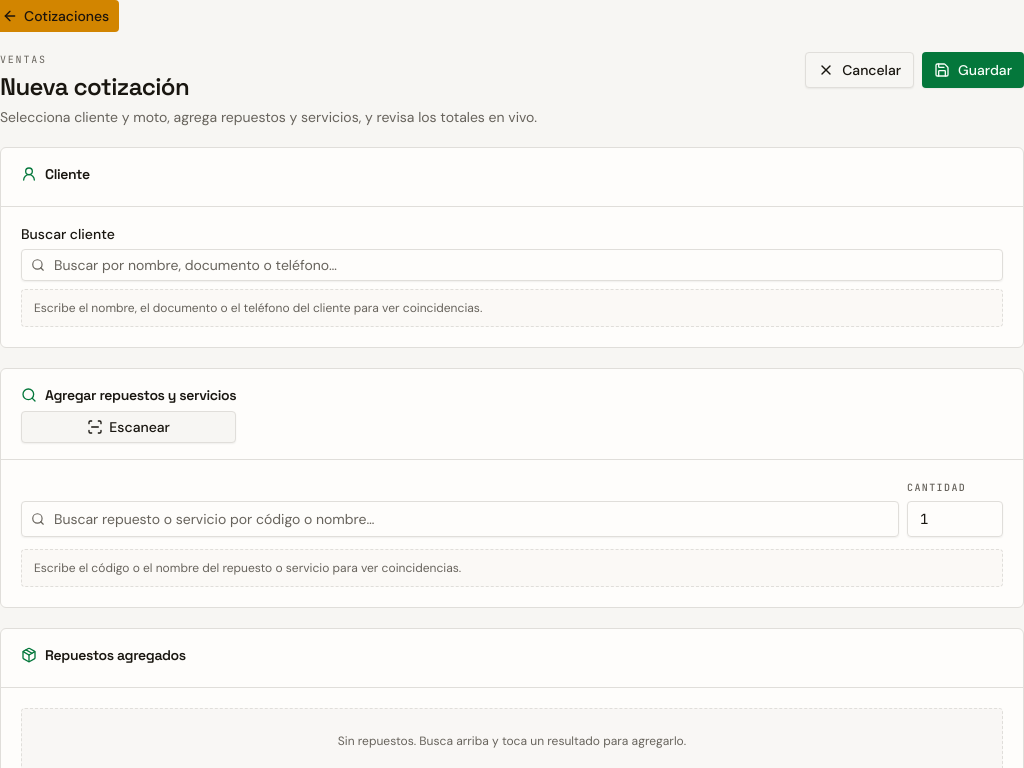
Test: QuoteDetailPage new-quote form (characterization) › blocks the save with a clear message when no customer is selected
Expected: the heading "Nueva cotización" is shown, [0,71,189,102]
Click the button with test id "quote_detail.save_button": point(973, 70) [922,52,1023,88]
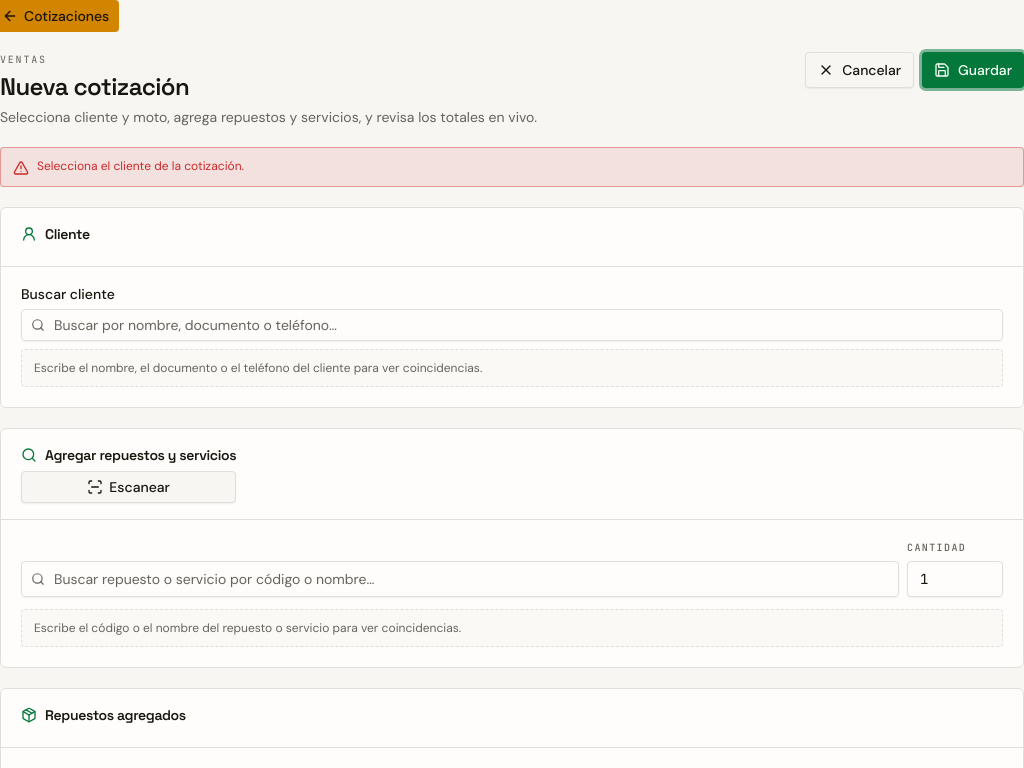
Now the element with test id "quote_detail.error_banner" reads "Selecciona el cliente de la cotización.", box [37,158,244,174]
